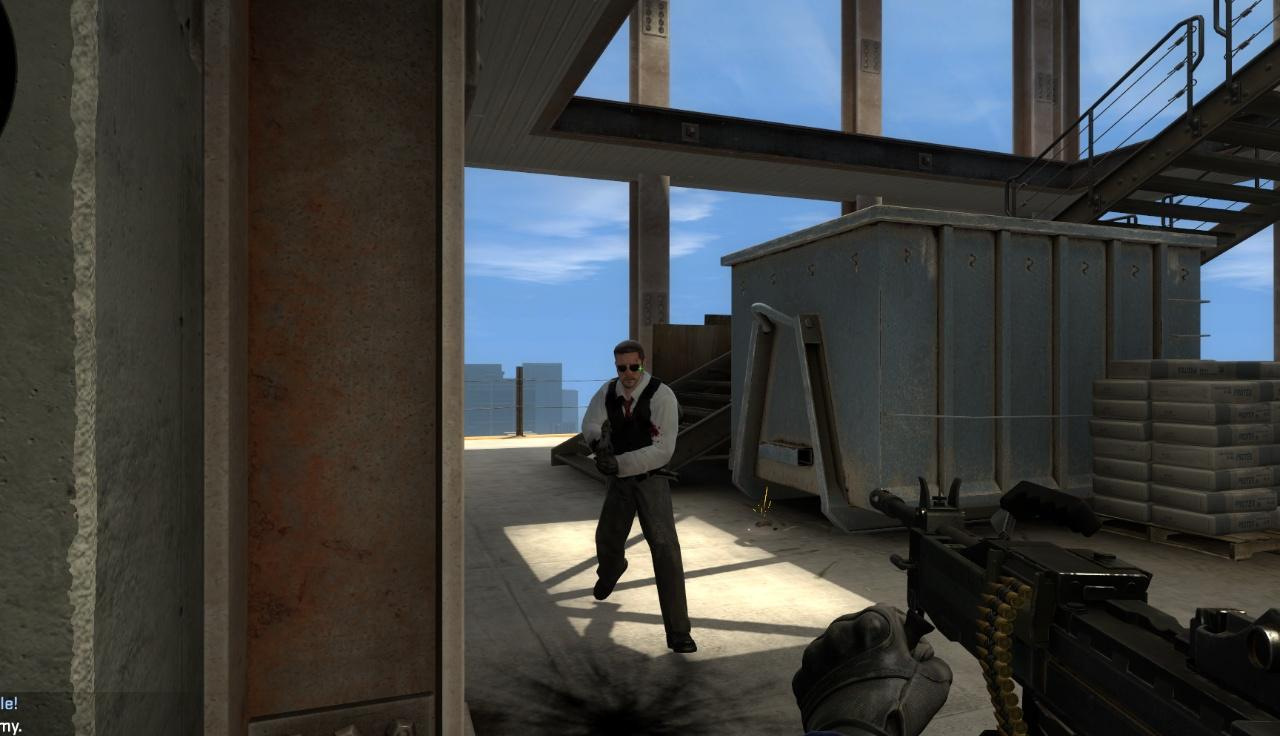rifle: (825, 479, 1277, 735)
tt: (586, 339, 695, 652)
tthead: (614, 341, 644, 386)
